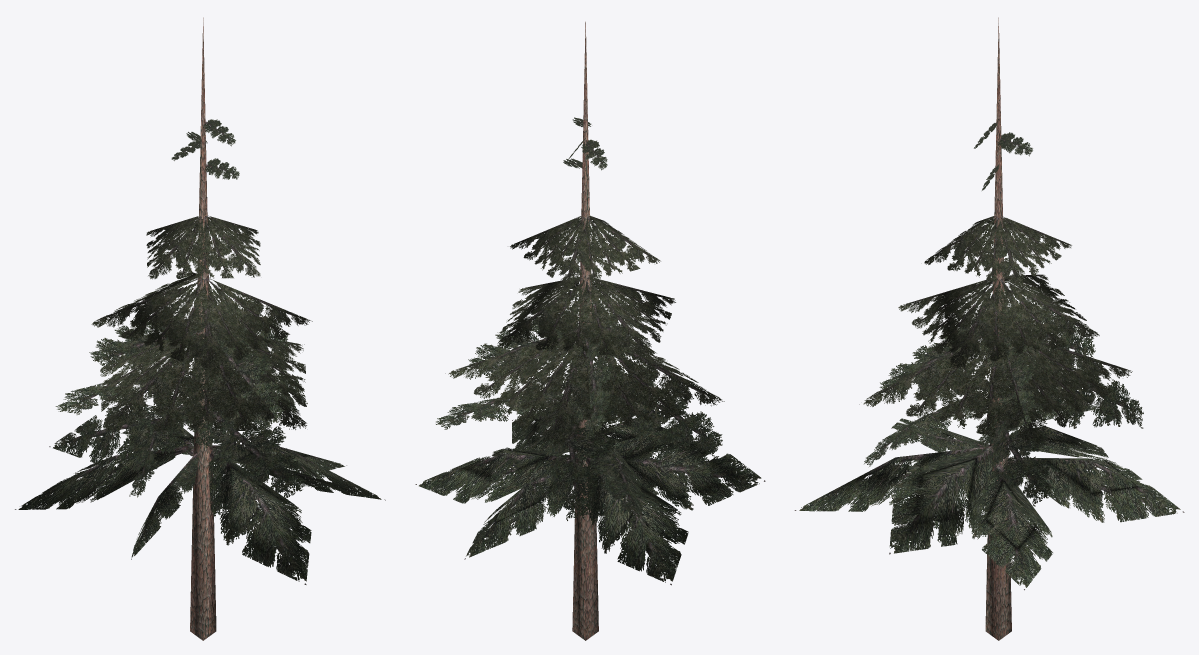
File: conf_mtns_pine_broken_l1.fbx
The picture shows the model from 3 angles, left to right: view 1: azimuth 30°, elevation 25°; view 2: azimuth 150°, elevation 25°; view 3: azimuth 270°, elevation 25°; orthographic projection.
Parts seen in each view (by area): view 1: mesh_node; view 2: mesh_node; view 3: mesh_node.
Part boxes in pixels (x1,y1,x2,y2): mesh_node: (15,17,385,640); mesh_node: (415,21,765,640); mesh_node: (794,17,1184,640).
Size of the model in its own units: 9.74 by 19.57 by 11.17.
